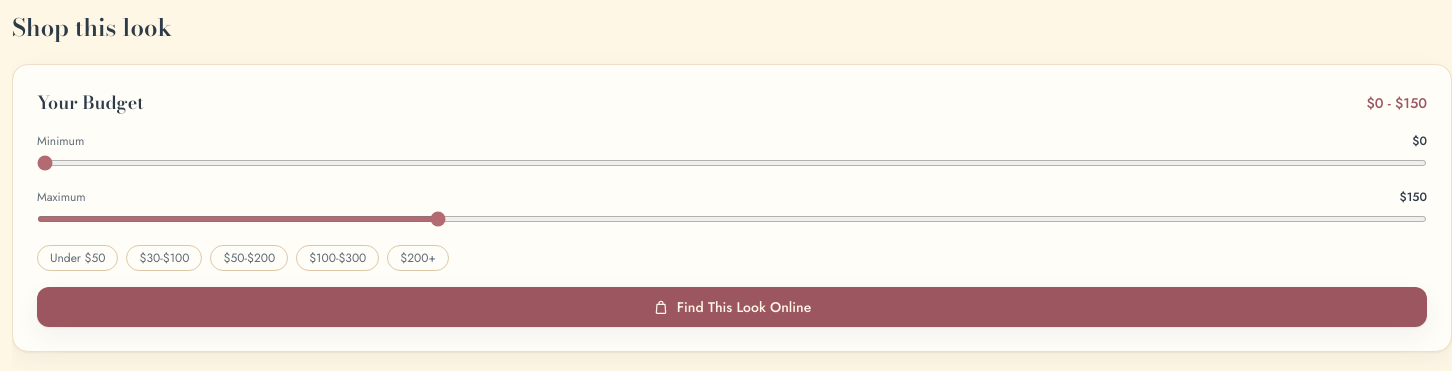
presets update the budget label
Expected: the text "$0 - $150" is shown, [1366,93,1427,113]
Click the button "$100-$300" at (338,258), box [296,245,379,271]
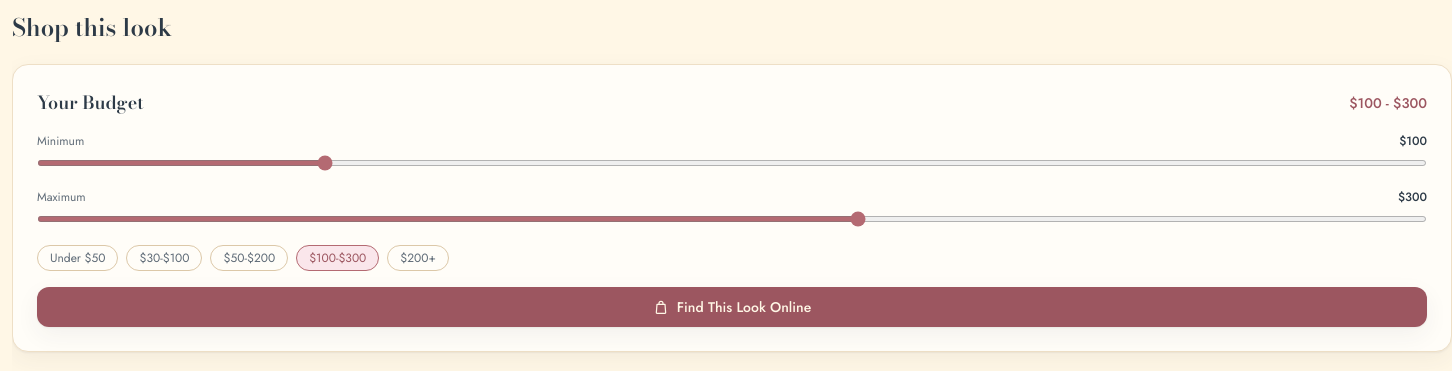
Now the text "$100 - $300" is shown, box [1349,93,1427,113]
